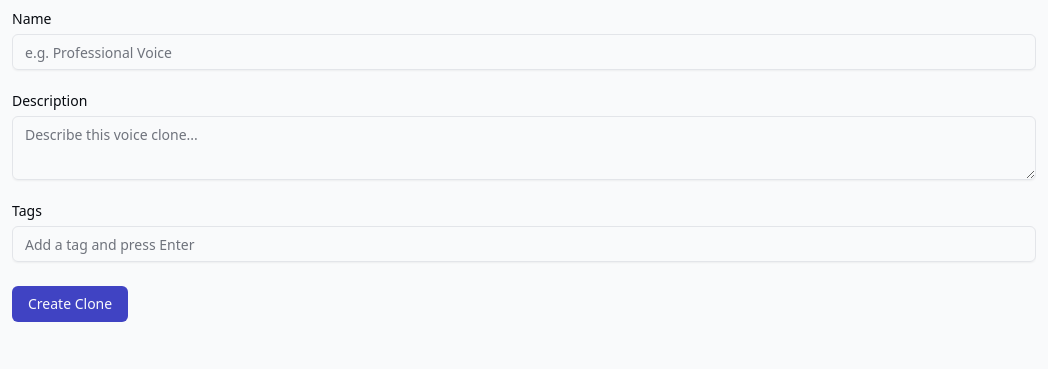
Scenario: CloneForm › adds a tag when typing and pressing Enter
Type "formal" into the field with placeholder "Add a tag and press Enter" at (524, 244), box [12,226,1036,262]
Then press Enter
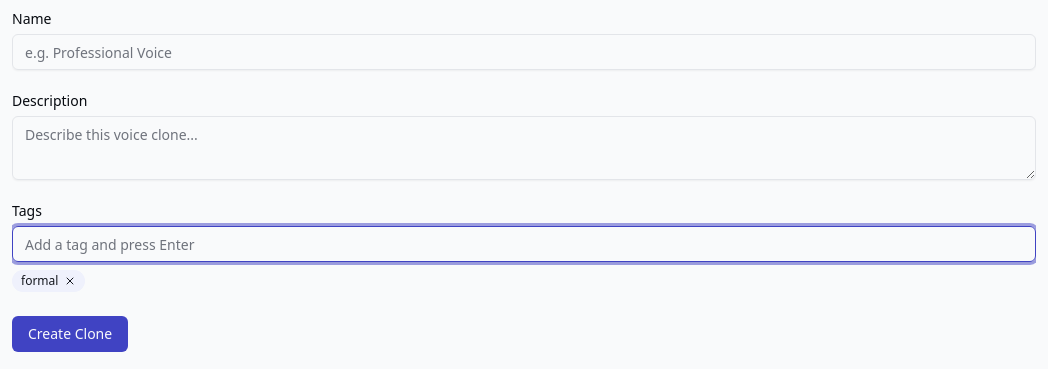
Check: the text "formal" is shown, box [12,270,85,292]
